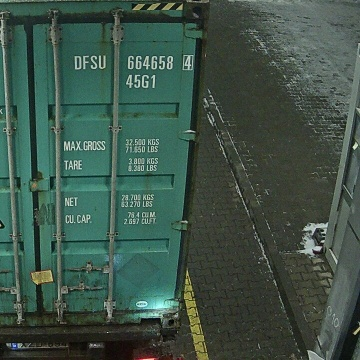serial_id: (74, 55, 191, 69)
